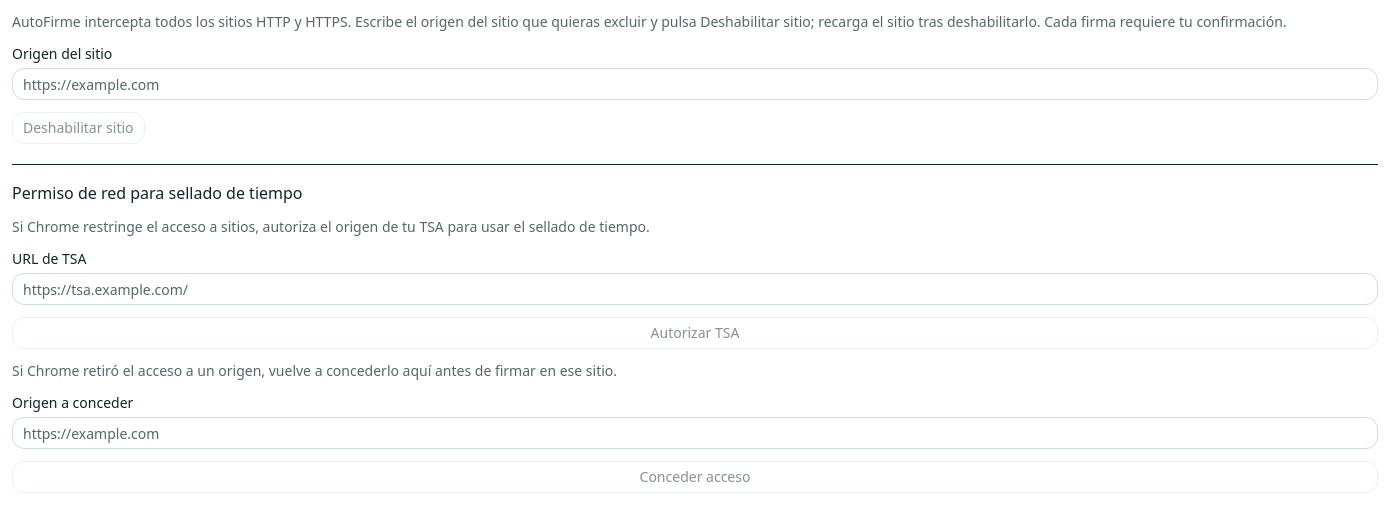
Scenario: translates the origin validation error in the Spanish panel
Step 1. Type "ftp://example.com" into the field labelled "Origen del sitio" → (695, 84), box left=12, top=68, right=1378, bottom=100
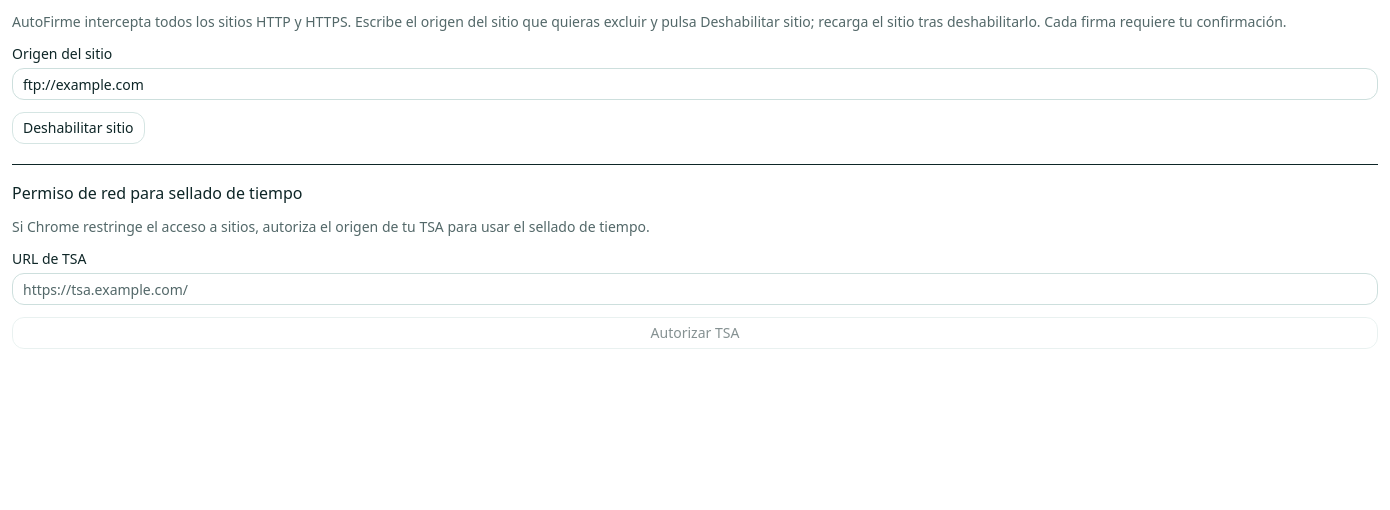
Step 2. Click the button "Deshabilitar sitio" → (78, 128), box left=12, top=112, right=145, bottom=144
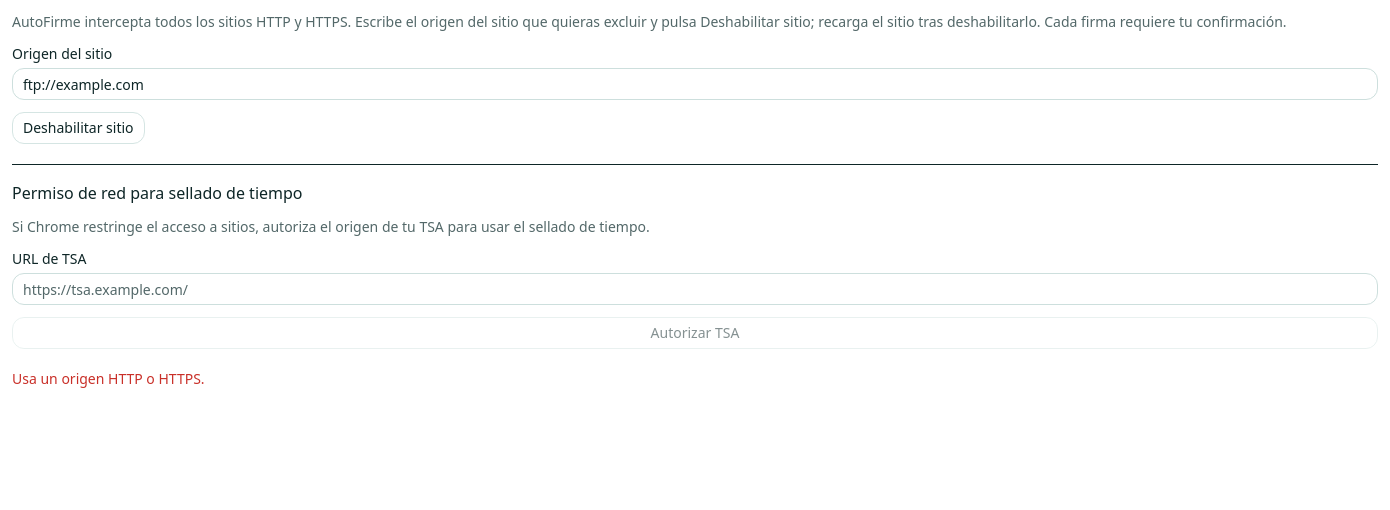
Check: the message reads "Usa un origen HTTP o HTTPS.", box left=12, top=369, right=205, bottom=388
